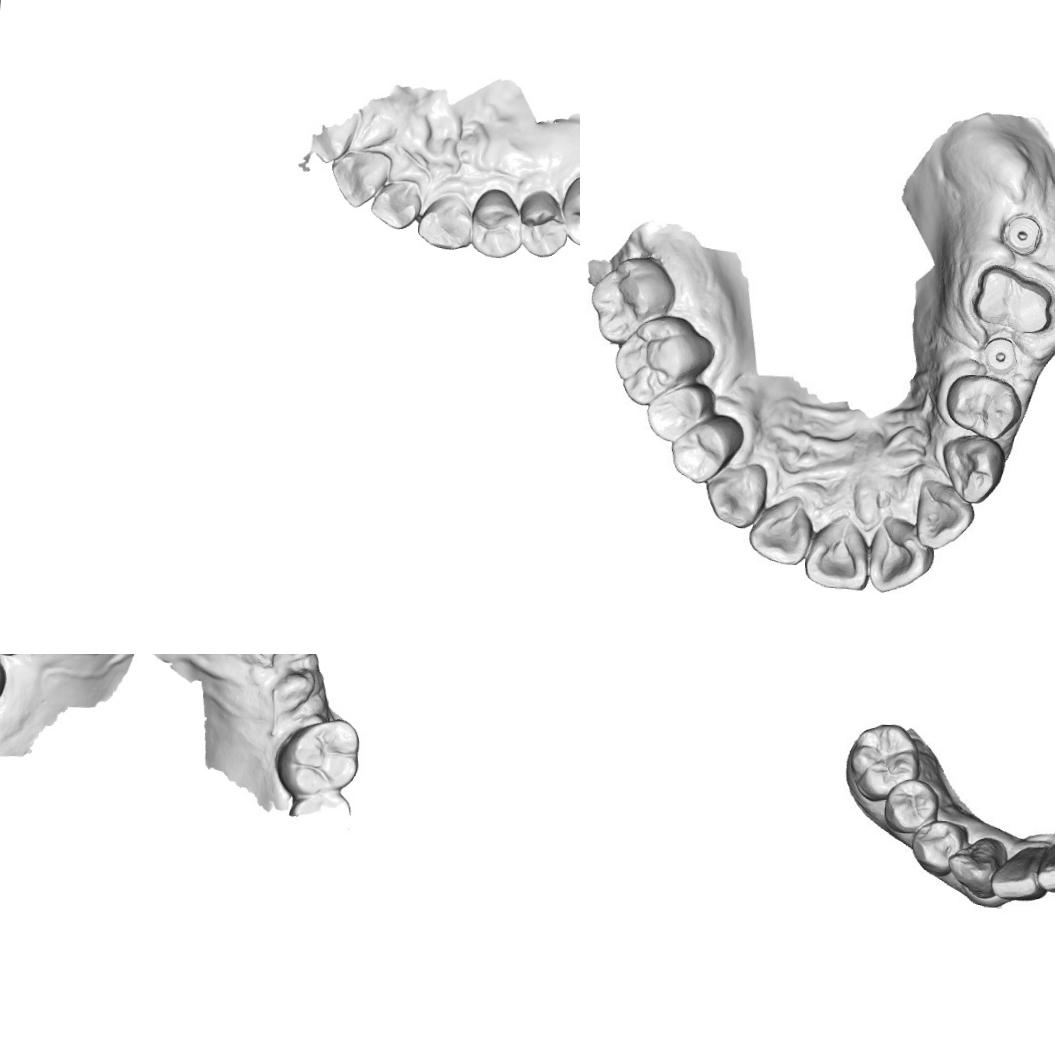canine: (936, 432, 1002, 504), (702, 463, 766, 528), (415, 191, 473, 251), (950, 832, 1004, 894)
crown: (965, 260, 1055, 342)
implant: (1003, 210, 1040, 253), (980, 333, 1016, 376)
incisor: (861, 512, 934, 594), (802, 520, 874, 594), (745, 498, 812, 570), (914, 484, 973, 552), (328, 148, 392, 210), (368, 176, 422, 230), (991, 849, 1043, 901), (1034, 836, 1055, 893)
molar: (613, 309, 718, 407), (588, 252, 674, 348), (272, 714, 362, 800), (842, 720, 920, 804), (943, 373, 1022, 439), (558, 170, 580, 248)
premolar: (470, 186, 524, 260), (517, 187, 569, 259), (671, 420, 730, 481), (648, 383, 706, 437), (884, 778, 934, 831), (915, 824, 965, 869)
